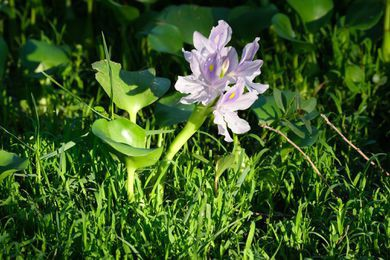water_hyacinth: (65, 28, 269, 210)
